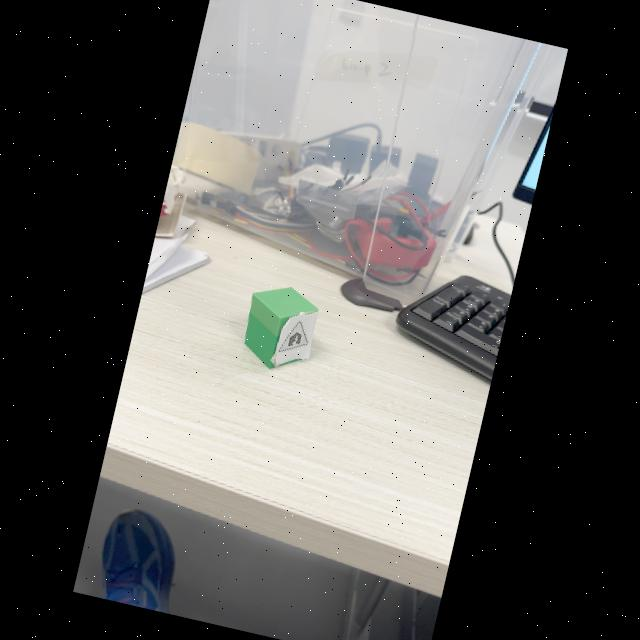Earthquake: (278, 321, 307, 352)
